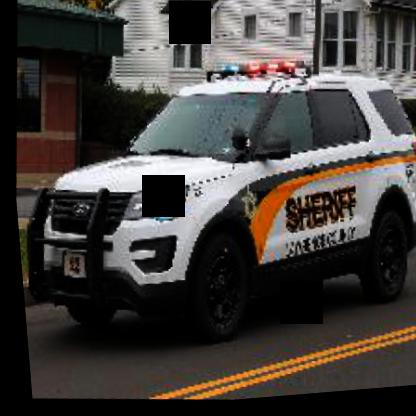emergency: (15, 26, 415, 371)
